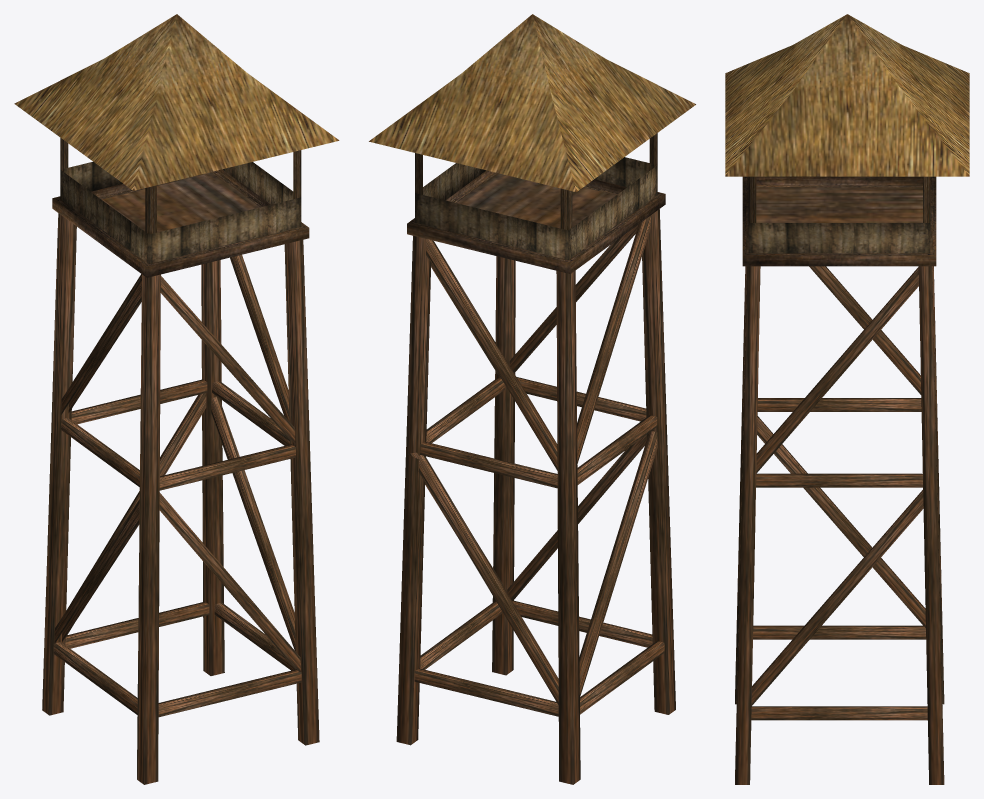
The model's file is tower_01.fbx.
The picture shows the model from 3 angles, left to right: view 1: azimuth 30°, elevation 25°; view 2: azimuth 150°, elevation 25°; view 3: azimuth 270°, elevation 25°; orthographic projection. The views are drawn at different scales.
Visible parts, largest first — view 1: polySurface48; view 2: polySurface48; view 3: polySurface48.
Part boxes in pixels (x1,y1,x2,y2): polySurface48: (14, 14, 339, 784); polySurface48: (369, 14, 695, 784); polySurface48: (725, 14, 969, 784).
Size of the model in its own units: 809 by 2657 by 809.
